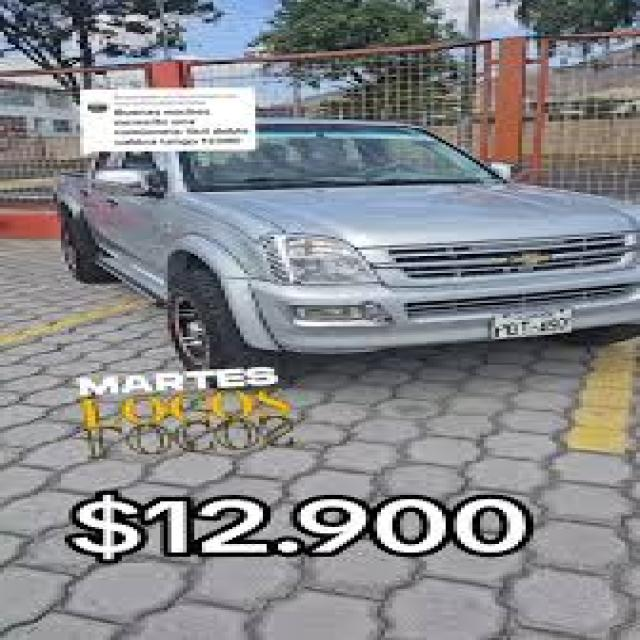CMT: (48, 120, 640, 370)
